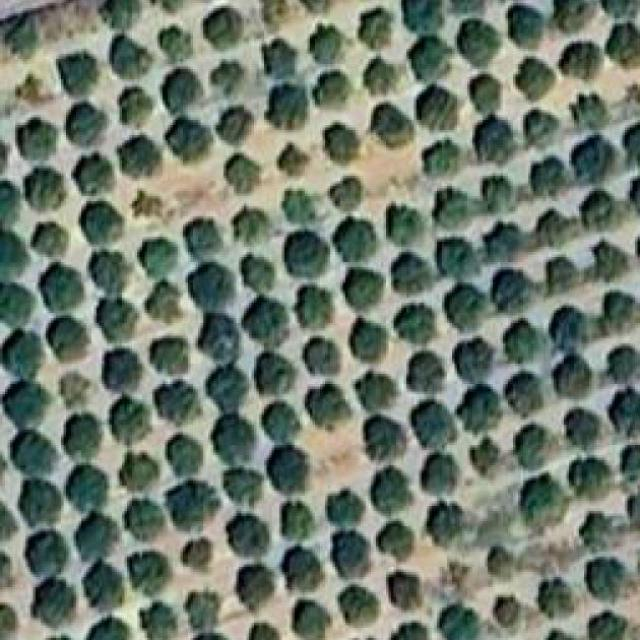Tree: (162, 480, 224, 538), (510, 474, 568, 536), (414, 82, 466, 138), (150, 379, 207, 430), (317, 531, 376, 580), (247, 296, 298, 352), (528, 150, 577, 207), (546, 353, 596, 408), (122, 544, 171, 600), (405, 399, 461, 447), (369, 460, 416, 516), (323, 122, 379, 169), (302, 384, 352, 436), (247, 32, 302, 79), (460, 379, 508, 432), (109, 398, 155, 453), (262, 90, 312, 140), (455, 21, 504, 72), (0, 424, 48, 476), (335, 582, 383, 634), (599, 282, 640, 342), (350, 363, 400, 412), (386, 303, 438, 350), (74, 145, 118, 200), (162, 125, 212, 173), (36, 262, 84, 311), (22, 521, 70, 570), (104, 37, 154, 84), (574, 82, 621, 132), (571, 135, 618, 185), (92, 244, 137, 296), (386, 250, 434, 298), (206, 367, 255, 414), (272, 493, 321, 540), (54, 49, 104, 95), (46, 313, 92, 363), (59, 415, 109, 461), (112, 457, 162, 503), (140, 338, 190, 384), (269, 438, 315, 488), (562, 28, 603, 84), (0, 328, 43, 381), (0, 280, 42, 334), (406, 31, 454, 78), (29, 582, 76, 630), (213, 415, 261, 462), (3, 8, 51, 55), (511, 54, 559, 101), (432, 186, 479, 234), (203, 3, 249, 52), (139, 280, 184, 330), (74, 201, 125, 245), (491, 259, 538, 306), (76, 514, 122, 562), (584, 554, 632, 600), (25, 164, 69, 214), (369, 104, 413, 154), (442, 293, 492, 337), (455, 336, 497, 388), (295, 283, 342, 329), (483, 216, 529, 263), (505, 11, 553, 56), (0, 384, 49, 428), (183, 217, 227, 266), (464, 432, 511, 477), (505, 366, 552, 411), (417, 443, 460, 492), (66, 470, 106, 522), (84, 562, 128, 609), (376, 516, 420, 563), (287, 234, 334, 278), (569, 455, 616, 499), (99, 300, 144, 345), (295, 338, 341, 382), (469, 118, 517, 160), (15, 489, 64, 530), (437, 242, 481, 287), (102, 349, 145, 395), (389, 572, 432, 618), (533, 577, 576, 623), (125, 191, 168, 237), (249, 346, 291, 393), (345, 313, 387, 360), (579, 194, 618, 244), (420, 135, 464, 179), (582, 511, 627, 554), (277, 539, 319, 585), (120, 138, 160, 186), (328, 176, 372, 219), (503, 318, 546, 362), (340, 267, 382, 312), (180, 587, 226, 628), (274, 143, 320, 184), (599, 349, 640, 395), (139, 602, 188, 640), (584, 602, 633, 640), (315, 69, 359, 111), (236, 204, 280, 246), (213, 108, 258, 149), (222, 150, 263, 195), (242, 254, 282, 300), (606, 391, 640, 445), (548, 0, 600, 35), (354, 8, 397, 50), (161, 74, 204, 116), (10, 72, 52, 115), (112, 89, 156, 130), (140, 235, 184, 276), (359, 415, 400, 459), (15, 118, 51, 168), (237, 564, 277, 609), (427, 503, 467, 548), (188, 267, 227, 313), (376, 206, 423, 244), (462, 74, 510, 111), (257, 398, 298, 441), (163, 433, 207, 473), (201, 321, 241, 365), (323, 483, 360, 530), (609, 16, 640, 72), (61, 105, 103, 146), (542, 211, 583, 253), (481, 174, 525, 213), (436, 553, 475, 597), (363, 57, 408, 95), (549, 313, 596, 349), (440, 607, 491, 640), (526, 110, 567, 151), (232, 513, 267, 561), (592, 240, 632, 282), (406, 352, 446, 394), (513, 428, 553, 469), (490, 589, 524, 637), (486, 539, 522, 584), (337, 214, 370, 263), (562, 412, 602, 451), (293, 602, 334, 640), (277, 186, 317, 224), (542, 262, 583, 299), (93, 0, 141, 31), (56, 369, 95, 407), (122, 509, 158, 548), (401, 0, 444, 31), (0, 226, 24, 281), (79, 615, 131, 640), (0, 174, 27, 222), (619, 440, 640, 501), (157, 26, 192, 62), (34, 222, 68, 259), (227, 468, 258, 505), (616, 127, 640, 174), (305, 28, 339, 61), (178, 536, 211, 569), (388, 622, 437, 640), (208, 62, 239, 90), (621, 490, 640, 534), (243, 617, 279, 640), (452, 0, 492, 20), (599, 0, 639, 19), (625, 168, 640, 214), (264, 0, 292, 20), (38, 625, 75, 640), (544, 628, 582, 640), (196, 628, 227, 640)
